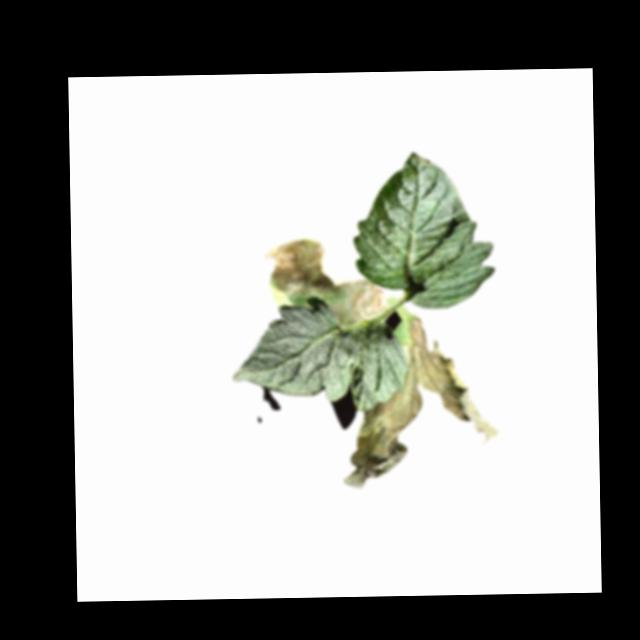Late_blight: (337, 310, 500, 489), (262, 236, 389, 328)
healthy: (352, 149, 496, 310), (229, 292, 407, 413)
